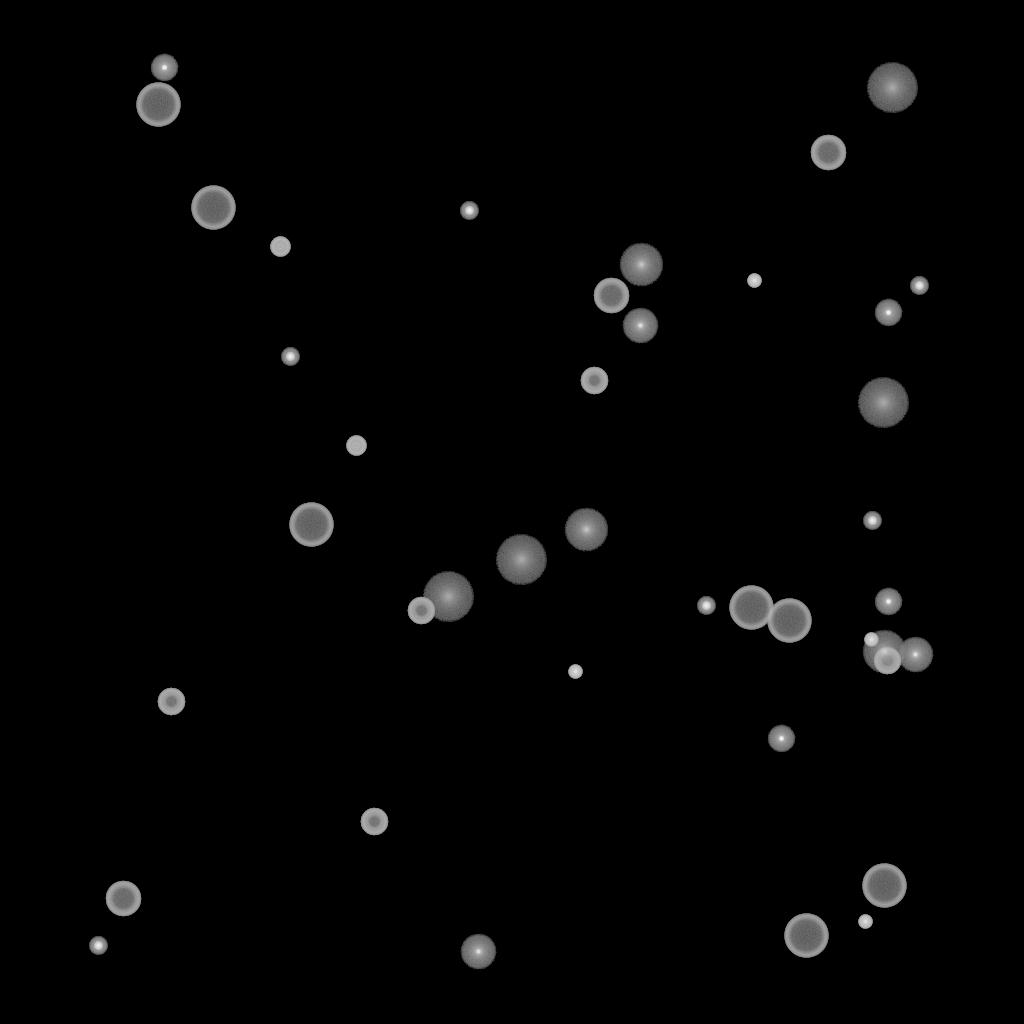depth:-10: (874, 299, 902, 327), (767, 725, 795, 753), (150, 54, 178, 82), (874, 588, 902, 616)
depth:-20: (89, 937, 107, 955), (863, 512, 881, 530), (460, 202, 478, 220), (281, 348, 299, 366), (697, 597, 715, 615), (910, 277, 928, 295)
depth:-30: (747, 274, 761, 288), (864, 633, 878, 647), (568, 665, 582, 679), (858, 915, 872, 929)
depth:-40: (346, 436, 366, 456), (270, 237, 290, 257)
depth:-50: (157, 688, 185, 716), (360, 808, 388, 836), (407, 597, 435, 625), (580, 367, 608, 395), (873, 647, 901, 675)
depth:-60: (593, 278, 629, 314), (105, 881, 141, 917), (810, 135, 846, 171)
depth:-70: (767, 599, 811, 643), (729, 586, 773, 630), (136, 83, 180, 127), (862, 864, 906, 908), (784, 914, 828, 958), (191, 186, 235, 230), (289, 503, 333, 547)
depth:0: (460, 934, 496, 970), (622, 308, 658, 344), (897, 637, 933, 673)
depth:10: (862, 630, 906, 674), (619, 243, 663, 287), (564, 508, 608, 552)
depth:20: (422, 572, 474, 622), (866, 63, 918, 113), (857, 378, 909, 428), (495, 535, 547, 585)
